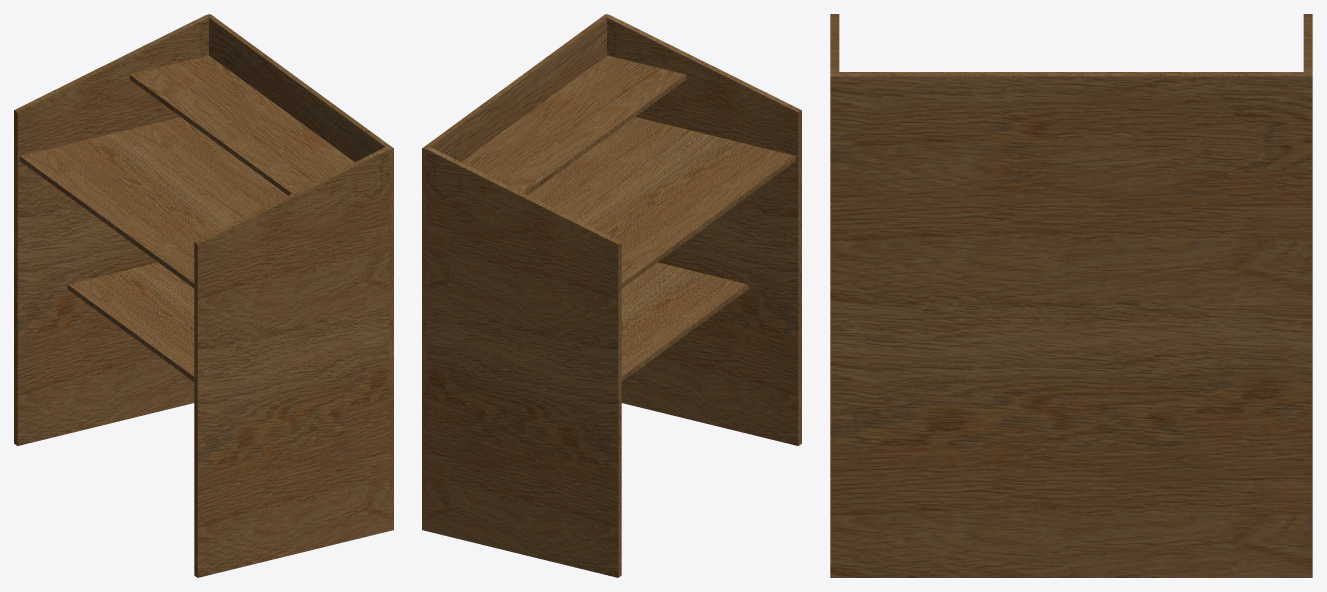
File: lecture table3.FBX
The picture shows the model from 3 angles, left to right: view 1: azimuth 30°, elevation 25°; view 2: azimuth 150°, elevation 25°; view 3: azimuth 270°, elevation 25°; orthographic projection. The views are drawn at different scales.
Parts seen in each view (by area): view 1: lecture table3; view 2: lecture table3; view 3: lecture table3.
Part boxes in pixels (x1,y1,x2,y2): lecture table3: [14, 14, 393, 577]; lecture table3: [422, 14, 801, 577]; lecture table3: [830, 14, 1312, 577].
Size of the model in its own units: 4.81 by 8.94 by 7.79.
